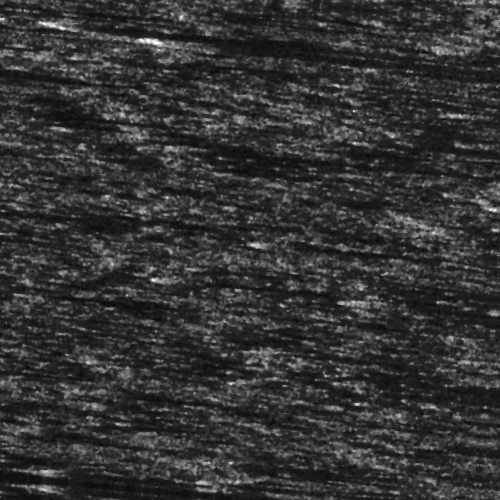object: (105, 45, 210, 52), (337, 282, 378, 295), (267, 343, 330, 348), (164, 150, 205, 157), (332, 127, 373, 134), (245, 238, 286, 241), (484, 282, 500, 289), (0, 130, 21, 135), (483, 178, 500, 183), (28, 38, 49, 41)
shadow: (158, 45, 500, 52), (358, 282, 500, 295), (184, 150, 441, 157), (0, 228, 179, 237), (0, 90, 132, 101), (39, 38, 416, 41), (353, 127, 500, 134), (6, 130, 189, 135), (299, 343, 428, 348), (0, 389, 74, 396), (180, 65, 310, 68), (266, 238, 394, 241), (0, 11, 41, 18)
